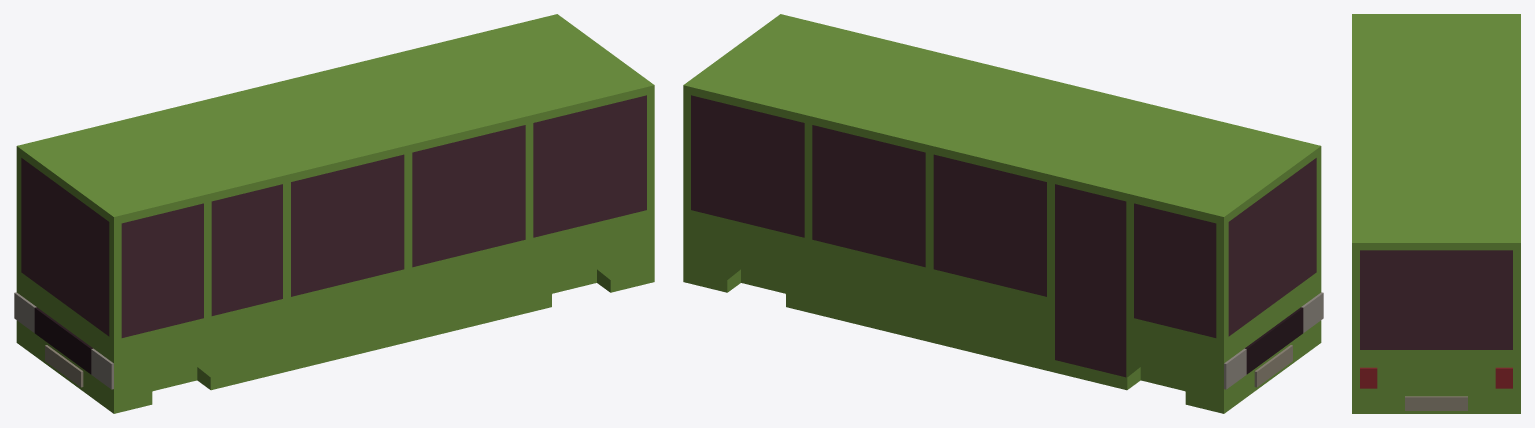
File: Bus_Green.fbx
3 renders of one model, left to right at view 1: azimuth 30°, elevation 25°; view 2: azimuth 150°, elevation 25°; view 3: azimuth 270°, elevation 25°, orthographic. The views are drawn at different scales.
Visible parts, largest first — view 1: Bus_Green, Bus_Lights; view 2: Bus_Green, Bus_Lights; view 3: Bus_Green, Bus_Lights.
Part boxes in pixels (box(x1,y1,x2,y2)): Bus_Green: box(16, 14, 654, 413); Bus_Lights: box(14, 292, 113, 389); Bus_Green: box(683, 14, 1321, 413); Bus_Lights: box(1224, 292, 1323, 389); Bus_Green: box(1352, 14, 1520, 413); Bus_Lights: box(1360, 367, 1512, 388).
Size of the model in its own units: 6.96 by 2.4 by 2.15.
